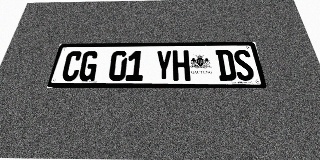0: (108, 51, 128, 81)
1: (125, 51, 144, 81)
C: (60, 51, 83, 81)
D: (215, 50, 237, 81)
G: (77, 51, 99, 81)
H: (172, 50, 190, 81)
S: (232, 50, 256, 81)
Y: (155, 50, 172, 81)
